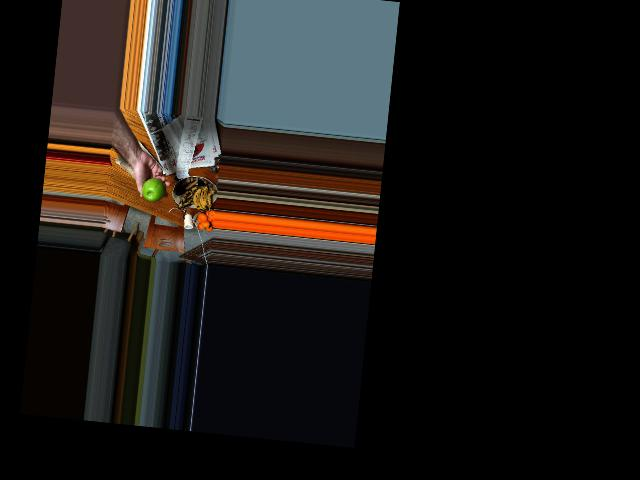apple: (141, 175, 166, 203)
